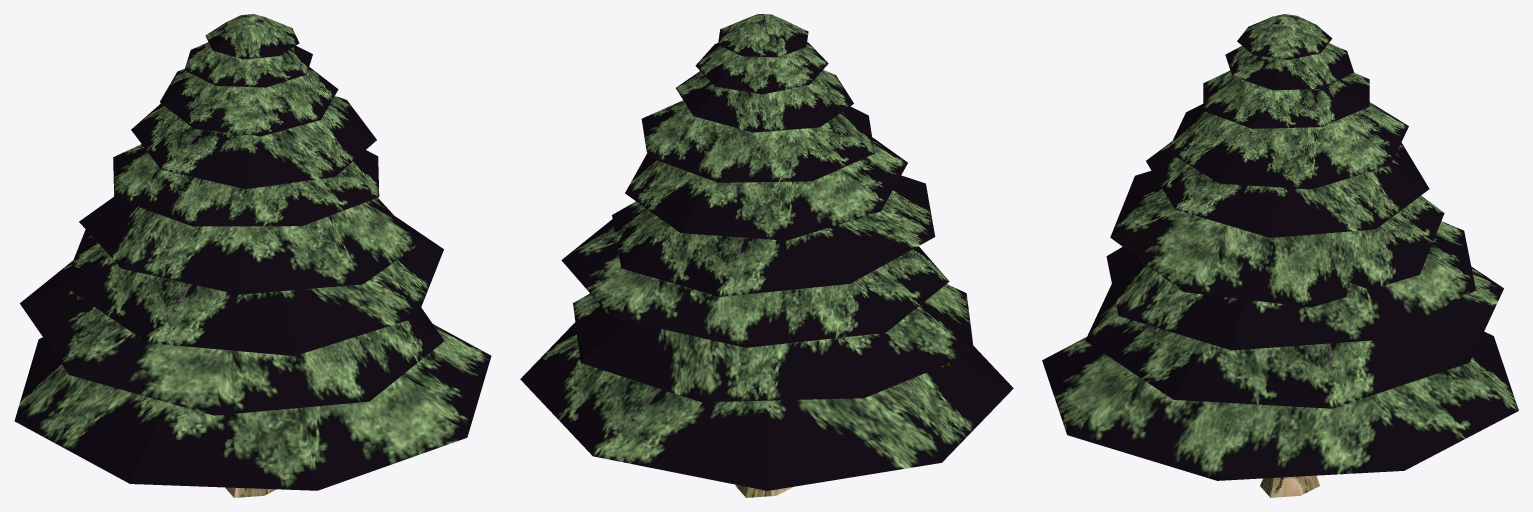
Rendered from Tree_B1B.fbx.
3 renders of one model, left to right at view 1: azimuth 30°, elevation 25°; view 2: azimuth 150°, elevation 25°; view 3: azimuth 270°, elevation 25°, orthographic.
Visible parts, largest first — view 1: Tree_B1B; view 2: Tree_B1B; view 3: Tree_B1B.
Boxes of the visible parts, x1,y1,x2,y2 form: Tree_B1B: (14,14,491,497); Tree_B1B: (520,14,1013,497); Tree_B1B: (1042,14,1518,497).
Size of the model in its own units: 7.06 by 7.66 by 7.06.
